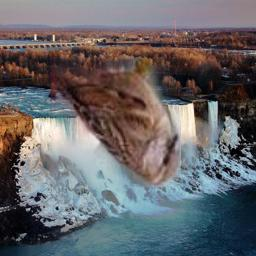Sparrow: (50, 57, 181, 187)
